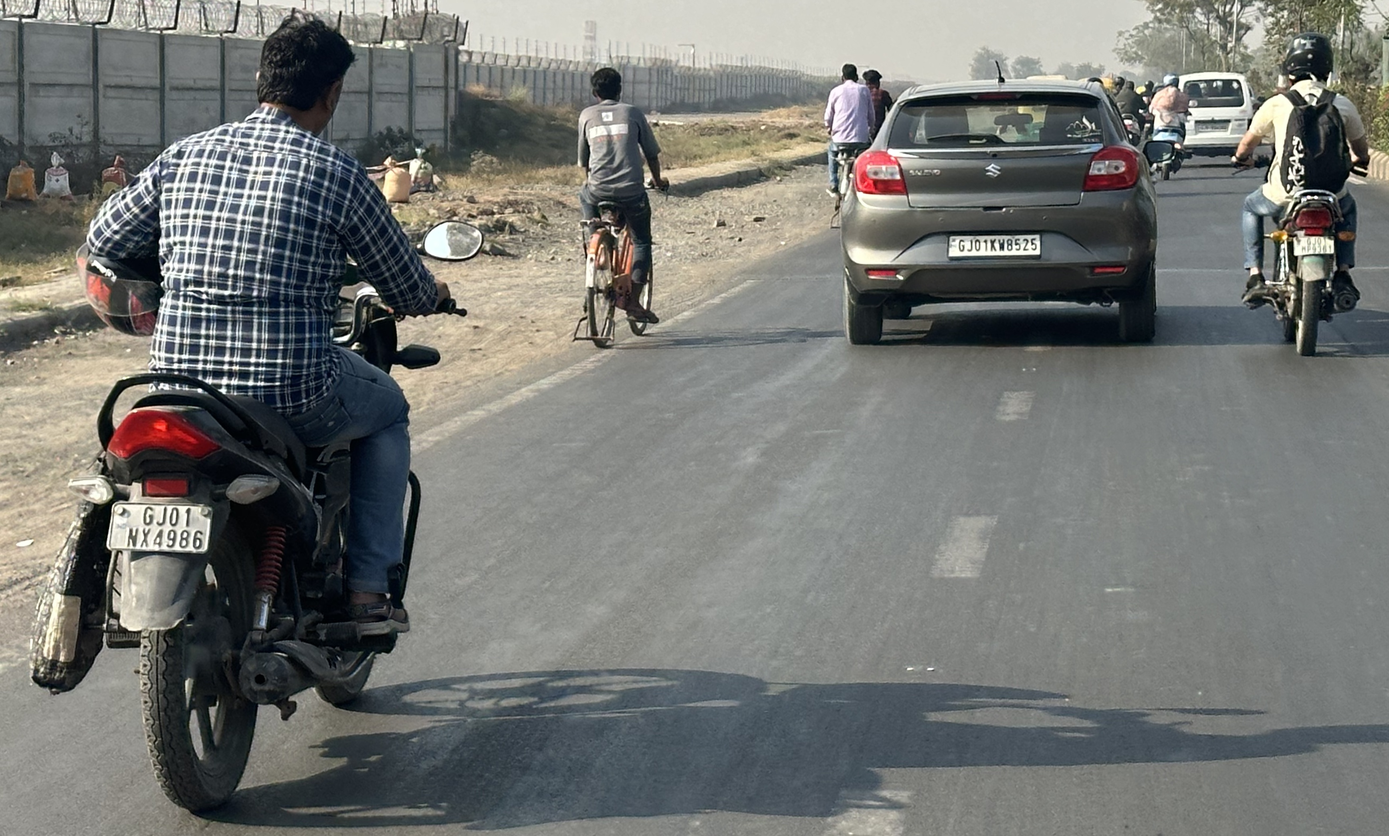BikeWithRider: (46, 0, 489, 824), (1220, 21, 1389, 362), (1146, 73, 1198, 196), (1115, 79, 1146, 147), (1133, 76, 1163, 138)
Helmet: (1277, 26, 1337, 89)
NoHelmet: (243, 7, 366, 160)
